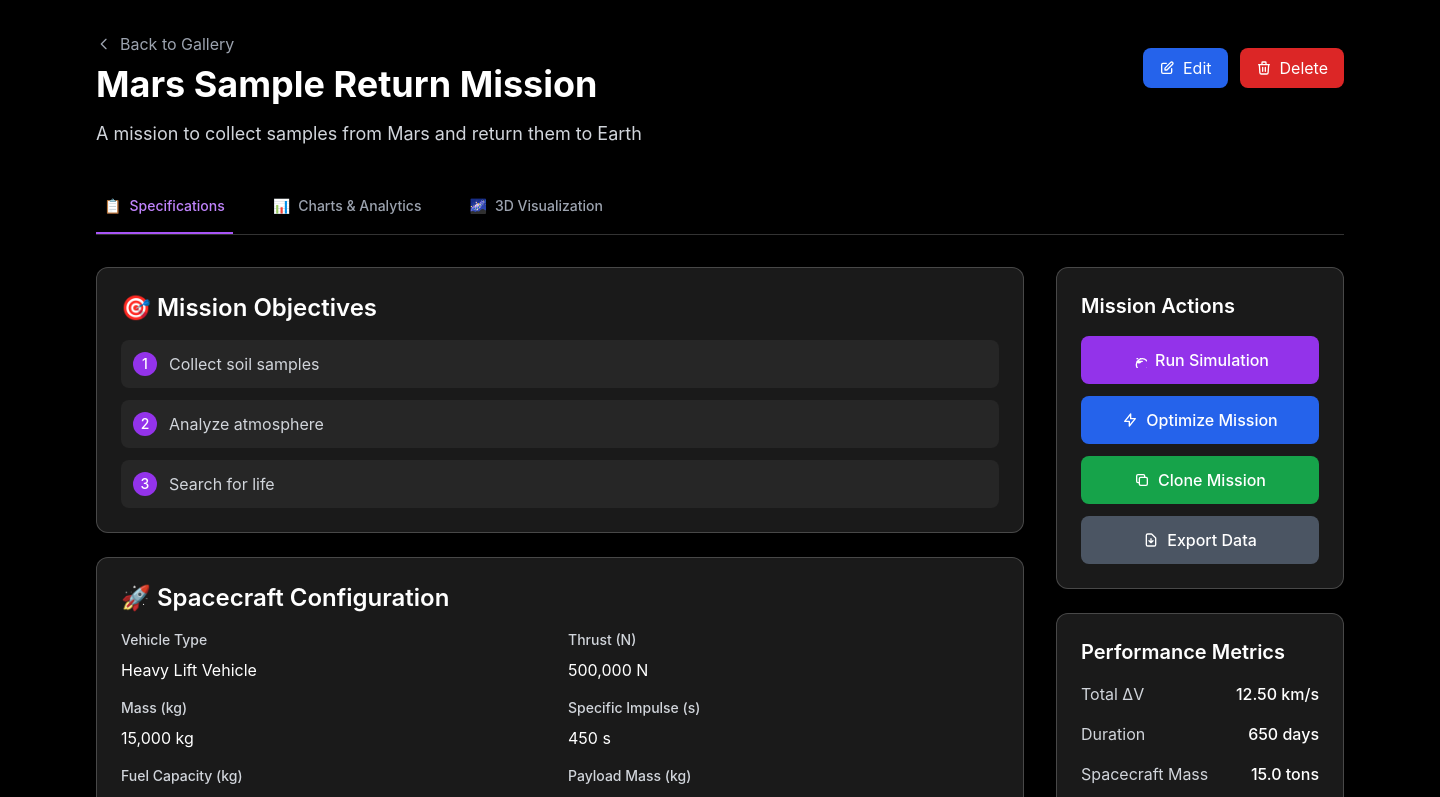
Test: MissionDetailPage › switches between tabs correctly
Note: Click on Charts tab
What coordinates should you click on to do the following:
click the button "📊 Charts & Analytics"
I would click on:
 (347, 207)
Its box is [265,180,430,234].
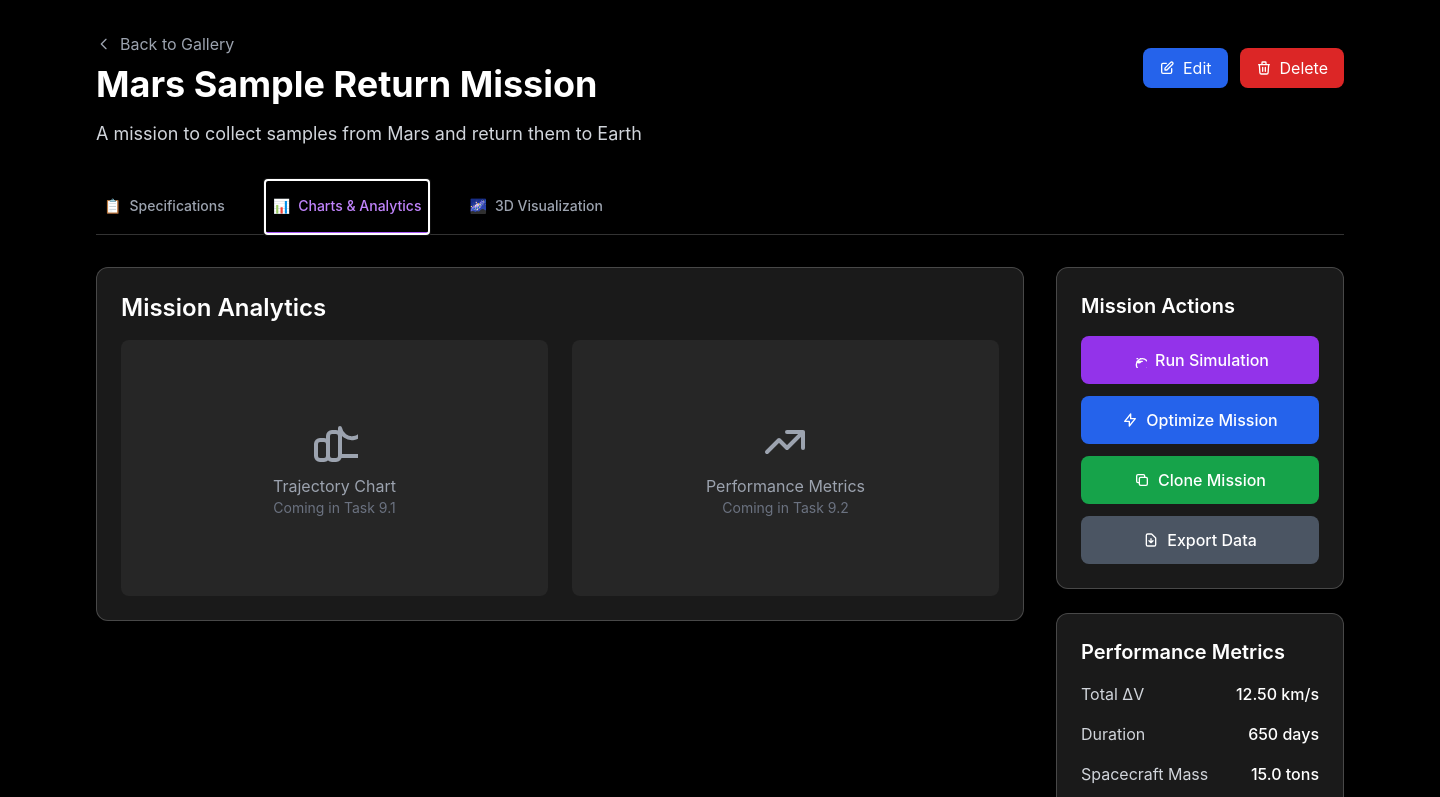
Now the heading "Mission Analytics" is shown, box [121,293,326,322]
Now the text "Trajectory Chart" is shown, box [273,474,396,498]
Note: Click on 3D tab
What coordinates should you click on to do the following:
click the button "🌌 3D Visualization"
I would click on:
 (536, 207)
Its box is [461,180,611,234].
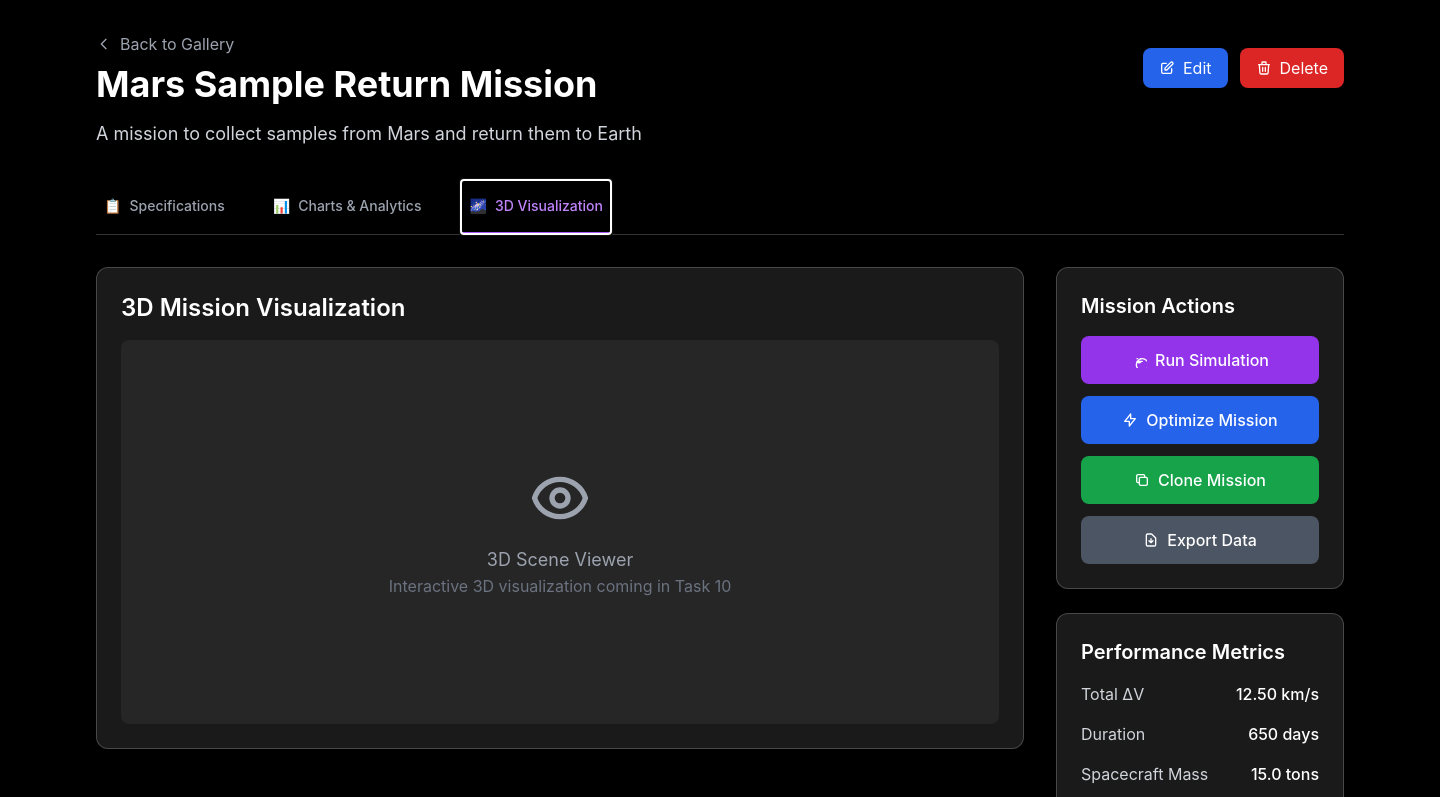
Now the heading "3D Mission Visualization" is shown, box [121,293,405,322]
Now the text "3D Scene Viewer" is shown, box [487,549,633,570]
Note: Click back to Specifications tab
What coordinates should you click on to do the following:
click the button "📋 Specifications"
I would click on:
 (164, 207)
Its box is [96,180,233,234].
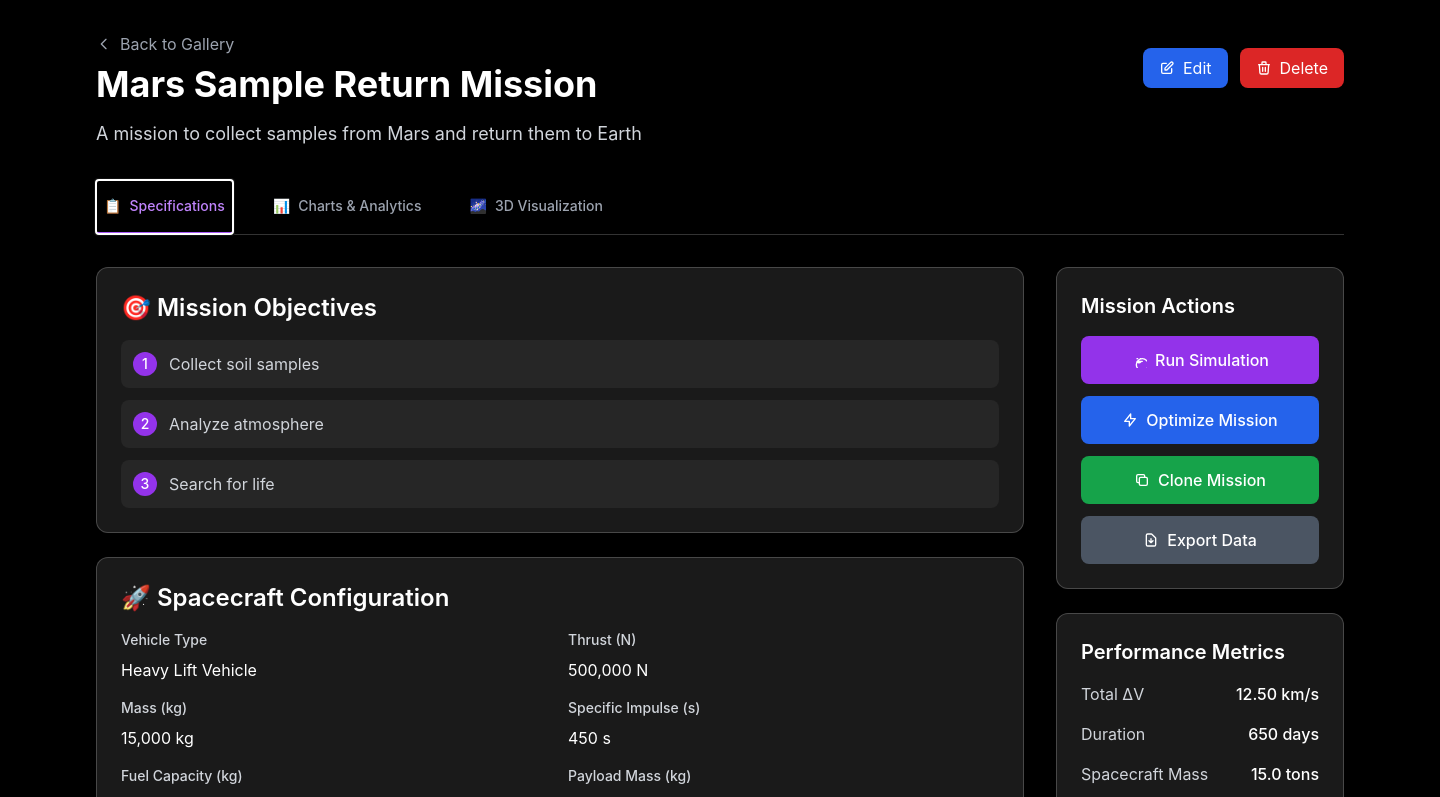
Now the heading "🎯 Mission Objectives" is shown, box [121,293,377,322]
